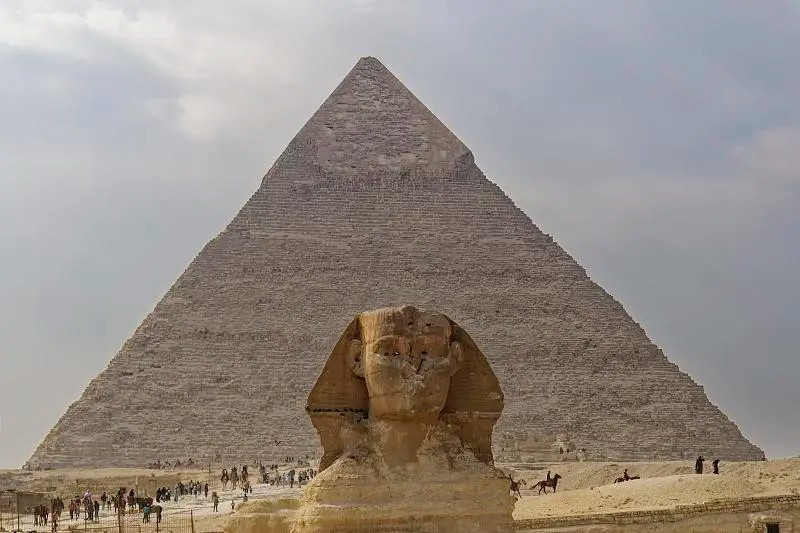Pyramid: (23, 57, 767, 470)
